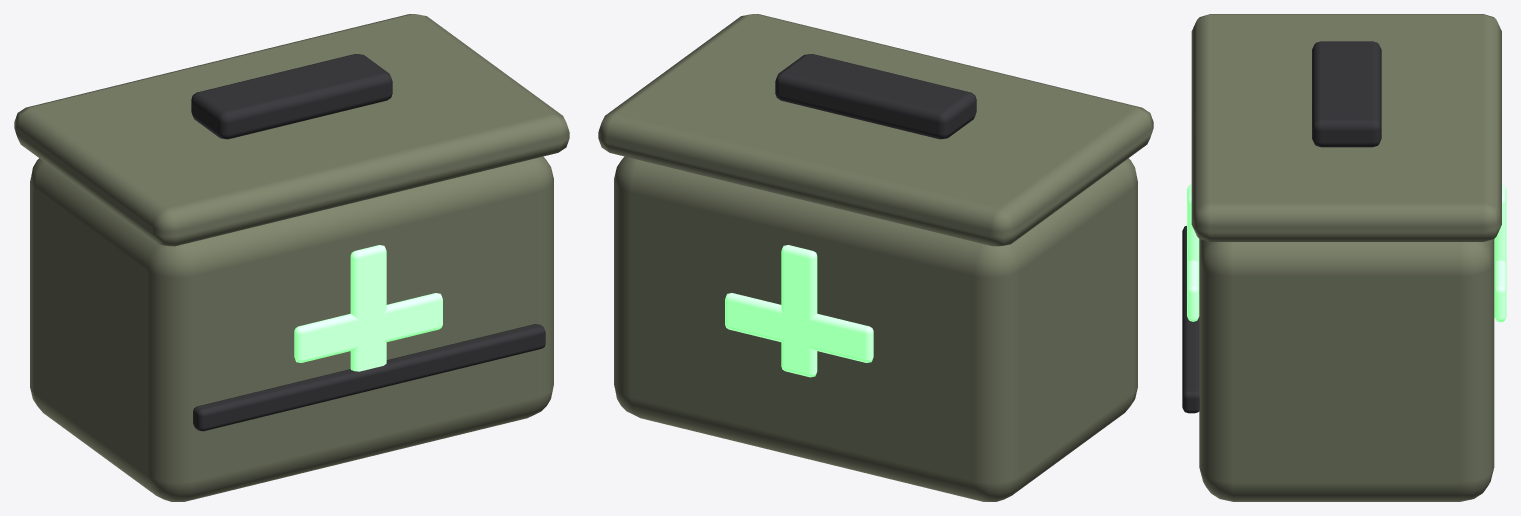
File: battle-royale-town-and-airfield-medkit-69cc18fd__28226.glb
3 renders of one model, left to right at view 1: azimuth 30°, elevation 25°; view 2: azimuth 150°, elevation 25°; view 3: azimuth 270°, elevation 25°, orthographic.
Parts seen in each view (by area): view 1: medkit; view 2: medkit; view 3: medkit.
Boxes of the visible parts, bbox=[...] form: medkit: bbox=[14, 14, 569, 501]; medkit: bbox=[598, 14, 1153, 501]; medkit: bbox=[1182, 14, 1506, 501].
Bounding box in the file's own units: 0.31 × 0.238 × 0.209.
